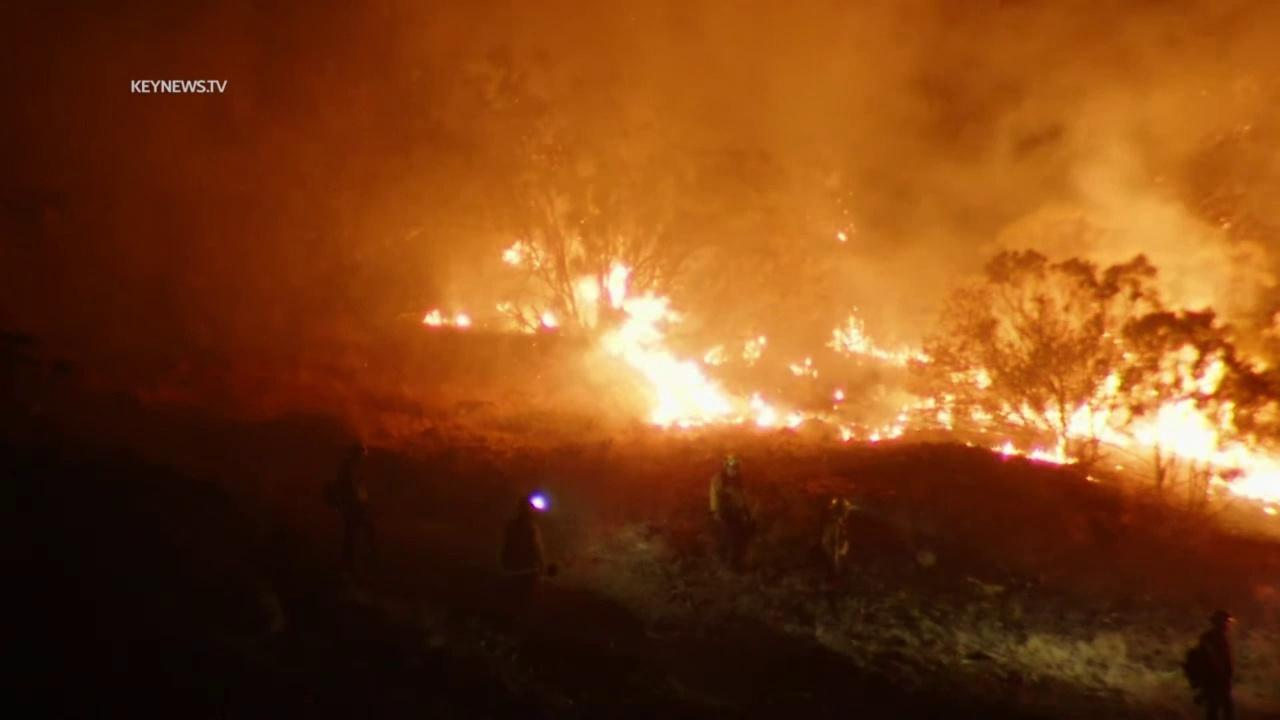fire: (868, 342, 1280, 516), (572, 258, 822, 432), (825, 305, 939, 367), (497, 236, 547, 272), (420, 307, 473, 332), (742, 335, 769, 366), (789, 355, 821, 381), (538, 310, 560, 330), (838, 424, 855, 442), (831, 386, 847, 402), (833, 229, 849, 243)
smoke: (0, 0, 1280, 525)
